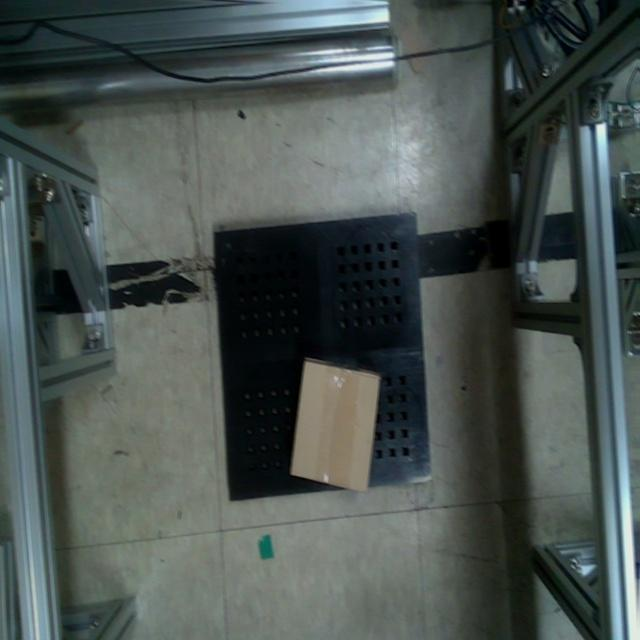box: (285, 353, 388, 492)
pallet: (208, 204, 438, 507)
